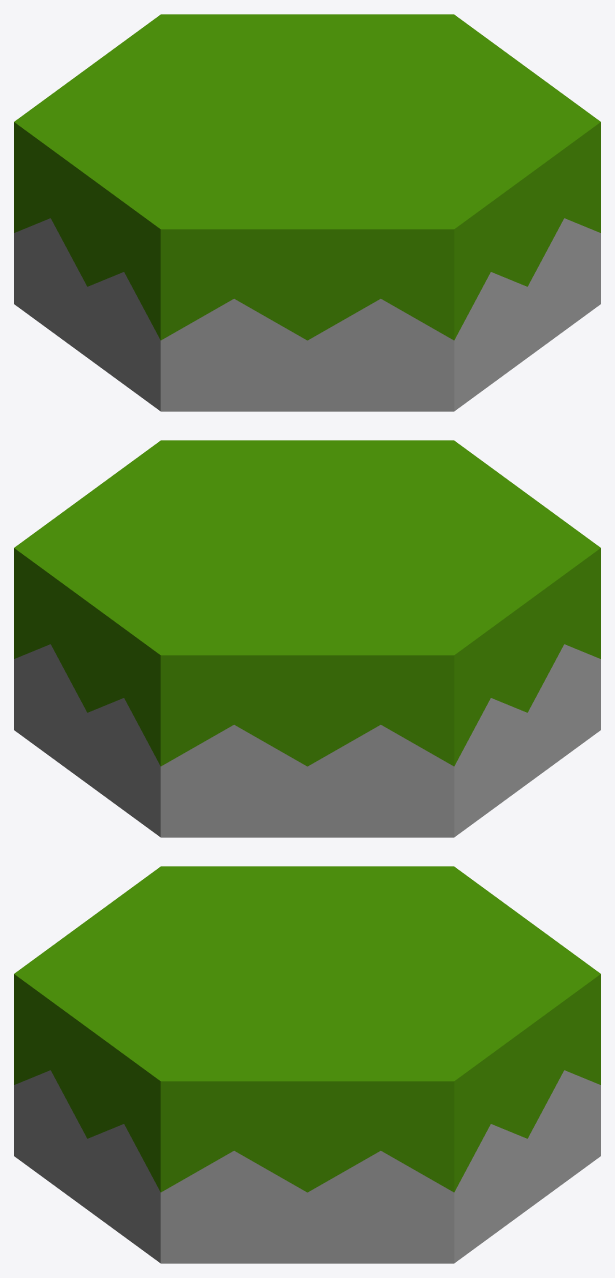
File: RPG_Tiles_Hex_Stone_Covered_02.FBX
3 views of the same model, one above another, from view 1: azimuth 30°, elevation 25°; view 2: azimuth 150°, elevation 25°; view 3: azimuth 270°, elevation 25° (orthographic).
Visible parts, largest first — view 1: RPG_Tiles_Hex_Stone_Covered_02; view 2: RPG_Tiles_Hex_Stone_Covered_02; view 3: RPG_Tiles_Hex_Stone_Covered_02.
Part boxes in pixels (box(x1,y1,x2,y2)): RPG_Tiles_Hex_Stone_Covered_02: box(14, 14, 600, 411); RPG_Tiles_Hex_Stone_Covered_02: box(14, 440, 600, 837); RPG_Tiles_Hex_Stone_Covered_02: box(14, 866, 600, 1263).
Bounding box in the file's own units: 3000 × 1186 × 3464.
